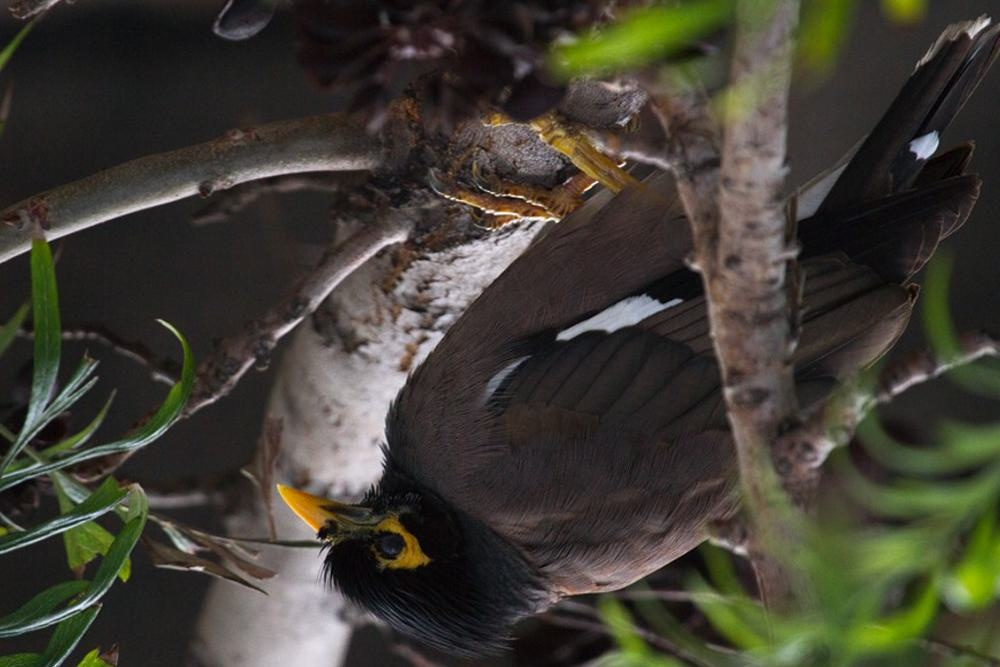myna: (272, 135, 873, 648)
